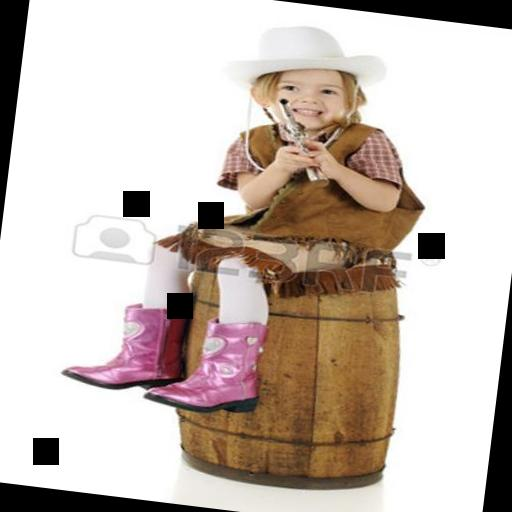Handgun: (264, 93, 336, 183)
